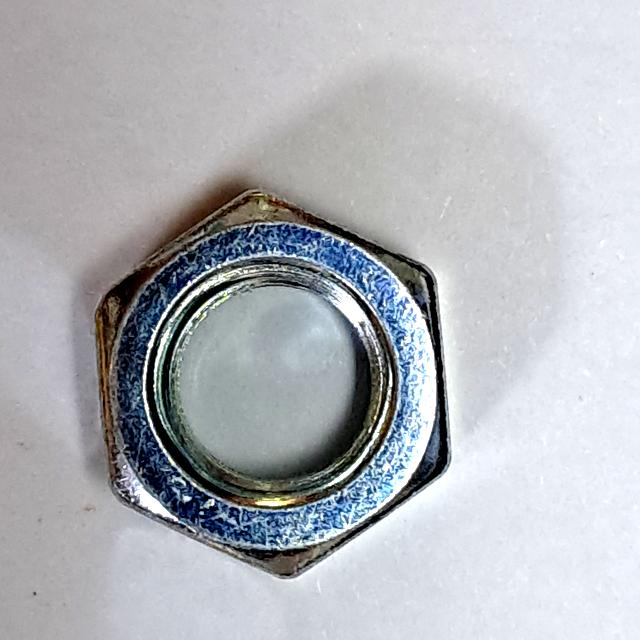Excellent: (77, 168, 476, 601)
